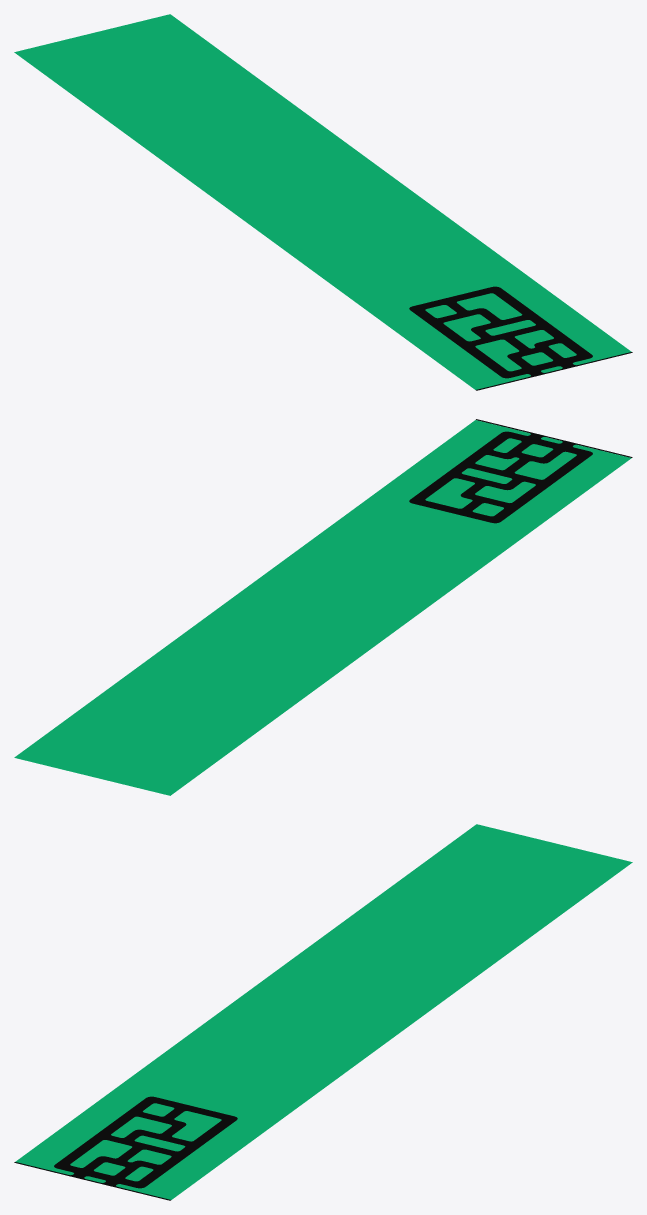
File: Map-Stage-1.fbx
3 renders of one model, top to bottom at view 1: azimuth 30°, elevation 25°; view 2: azimuth 150°, elevation 25°; view 3: azimuth 330°, elevation 25°, orthographic.
Parts seen in each view (by area): view 1: Map-Stage-1; view 2: Map-Stage-1; view 3: Map-Stage-1.
Part boxes in pixels (x1=…): Map-Stage-1: x1=14, y1=14, x2=632, y2=390; Map-Stage-1: x1=14, y1=419, x2=632, y2=795; Map-Stage-1: x1=14, y1=824, x2=632, y2=1200.
Bounding box in the file's own units: 23.84 × 0.02 × 122.
